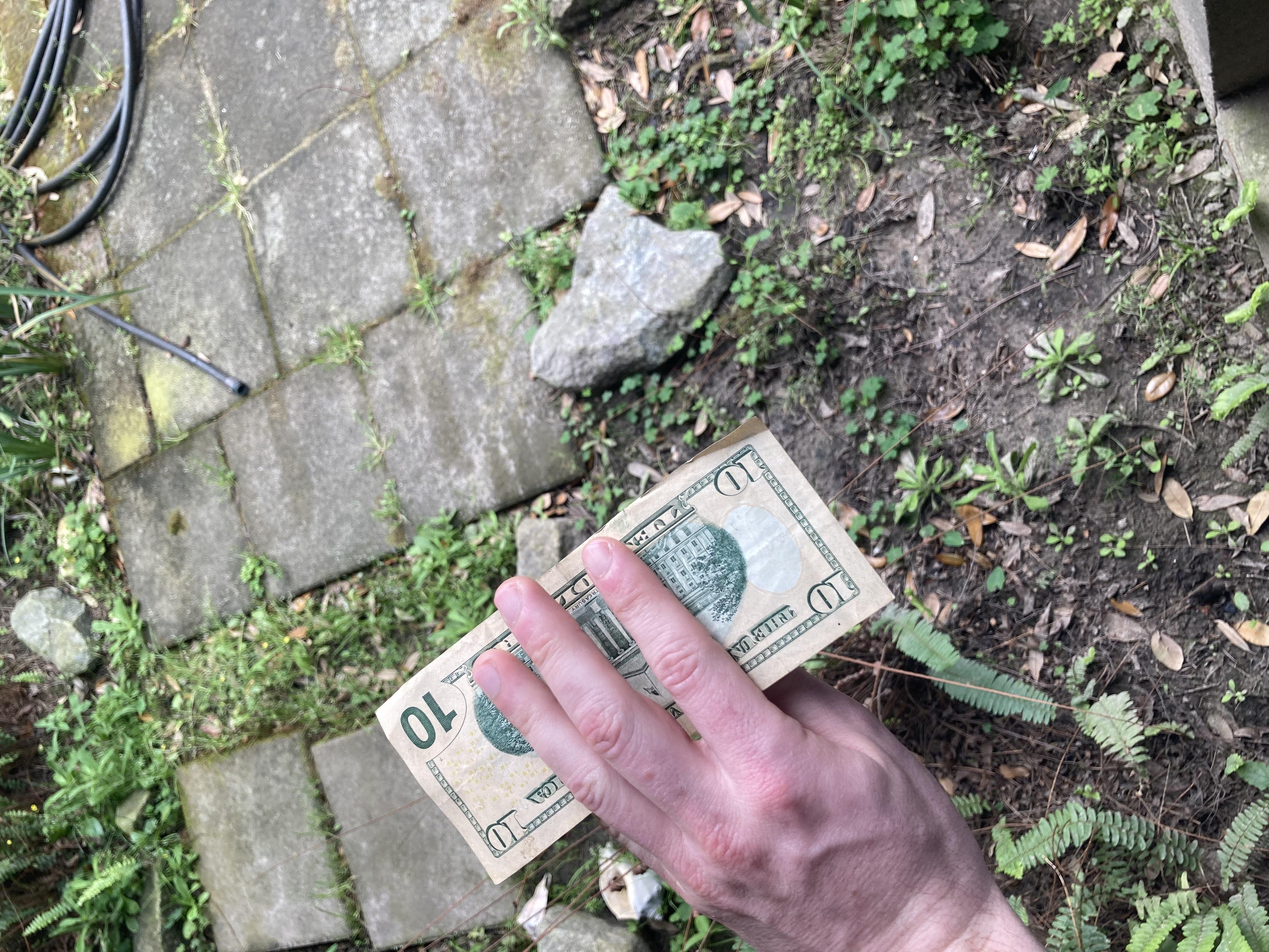ten-back: (89, 276, 722, 671)
